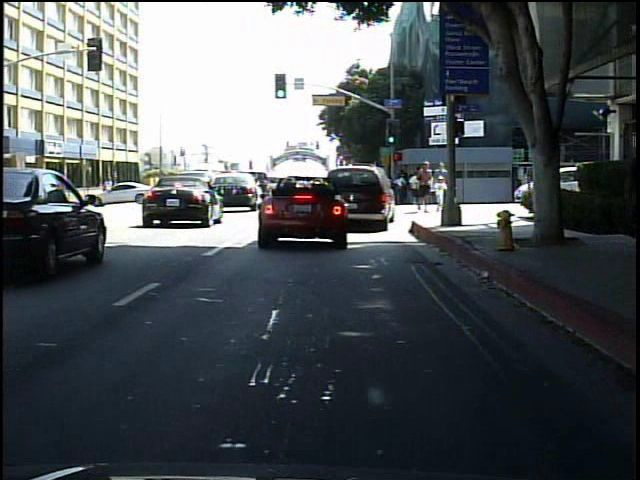person: (415, 159, 436, 215), (100, 177, 119, 204), (430, 176, 445, 209)
